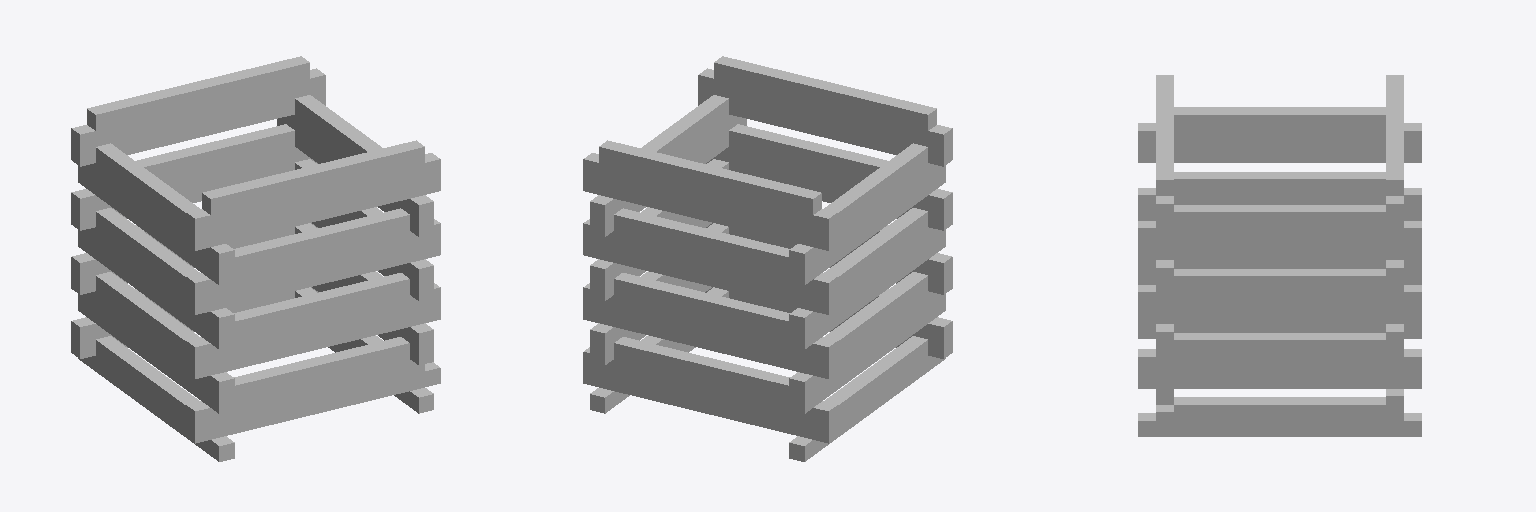
The model's file is composting_composter.obj.
The picture shows the model from 3 angles: view 1: azimuth 30°, elevation 25°; view 2: azimuth 150°, elevation 25°; view 3: azimuth 270°, elevation 25°; orthographic projection.
Visible parts, largest first — view 1: node_0_0_0; view 2: node_0_0_0; view 3: node_0_0_0.
Part boxes in pixels (x1,y1,x2,y2): node_0_0_0: (71, 56, 440, 461); node_0_0_0: (583, 56, 952, 461); node_0_0_0: (1138, 75, 1421, 436).
Bounding box in the file's own units: 1 × 1 × 1.